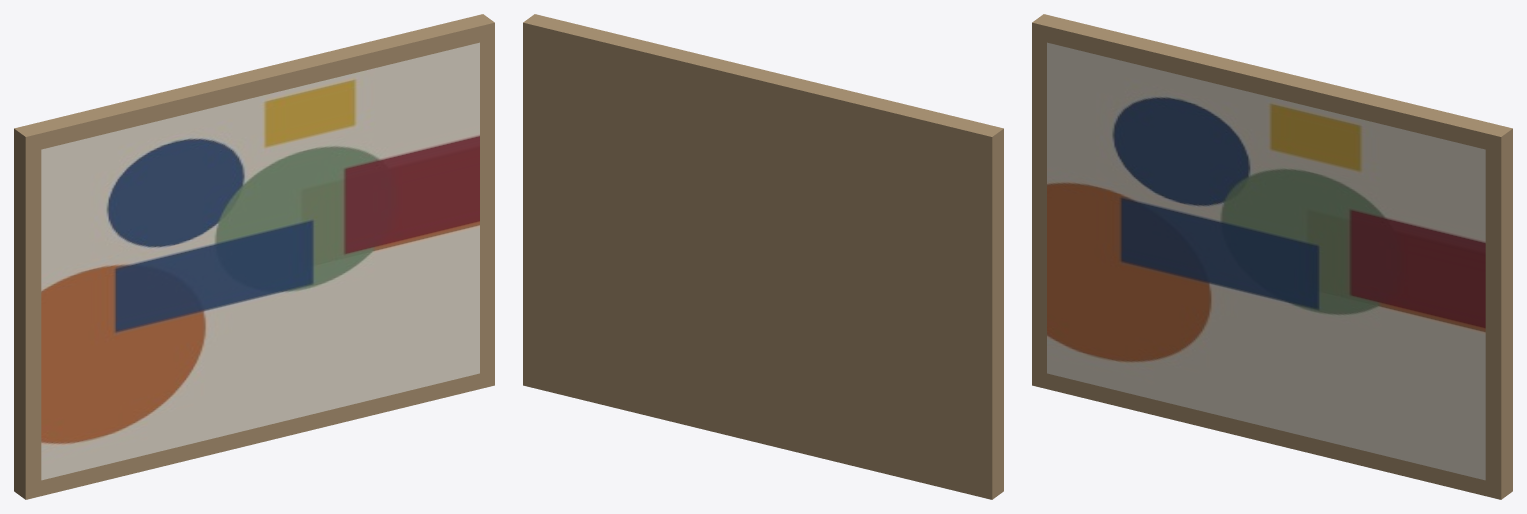
Rendered from quadro-arte.glb.
The picture shows the model from 3 angles, left to right: view 1: azimuth 30°, elevation 25°; view 2: azimuth 150°, elevation 25°; view 3: azimuth 330°, elevation 25°; orthographic projection.
Parts seen in each view (by area): view 1: quadro-arte_malha; view 2: quadro-arte_malha; view 3: quadro-arte_malha.
Part boxes in pixels (x1,y1,x2,y2): quadro-arte_malha: (14, 14, 494, 499); quadro-arte_malha: (523, 14, 1003, 499); quadro-arte_malha: (1032, 14, 1512, 499).
Bounding box in the file's own units: 0.92 × 0.68 × 0.041.
Materials: 2 (1 with a texture image).
